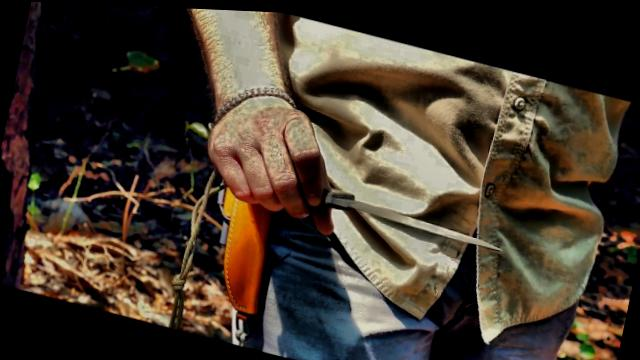knife: (217, 133, 516, 277)
